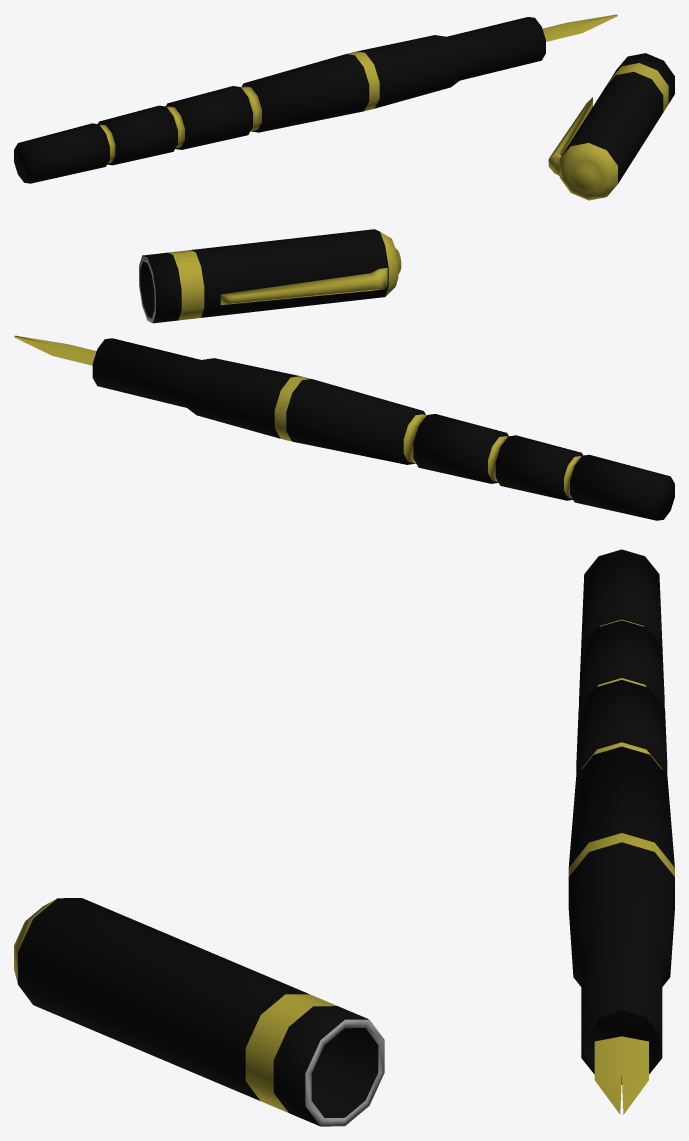
File: Penna.FBX
3 views of the same model, one above another, from view 1: azimuth 30°, elevation 25°; view 2: azimuth 150°, elevation 25°; view 3: azimuth 270°, elevation 25° (orthographic). The views are drawn at different scales.
Parts seen in each view (by area): view 1: Cylinder001, Cylinder002, Box001, Box002; view 2: Cylinder001, Cylinder002, Box002, Box001; view 3: Cylinder001, Cylinder002, Box001.
Part boxes in pixels (x1=…): Cylinder001: x1=14, y1=17, x2=545, y2=183; Cylinder002: x1=559, y1=53, x2=674, y2=200; Box001: x1=542, y1=14, x2=617, y2=41; Box002: x1=548, y1=97, x2=592, y2=175; Cylinder001: x1=92, y1=338, x2=674, y2=520; Cylinder002: x1=139, y1=229, x2=401, y2=323; Box002: x1=220, y1=268, x2=387, y2=304; Box001: x1=14, y1=335, x2=96, y2=365; Cylinder001: x1=568, y1=549, x2=674, y2=1084; Cylinder002: x1=14, y1=898, x2=384, y2=1126; Box001: x1=594, y1=1036, x2=648, y2=1114.
Bounding box in the file's own units: 83.98 × 8 × 43.84.
